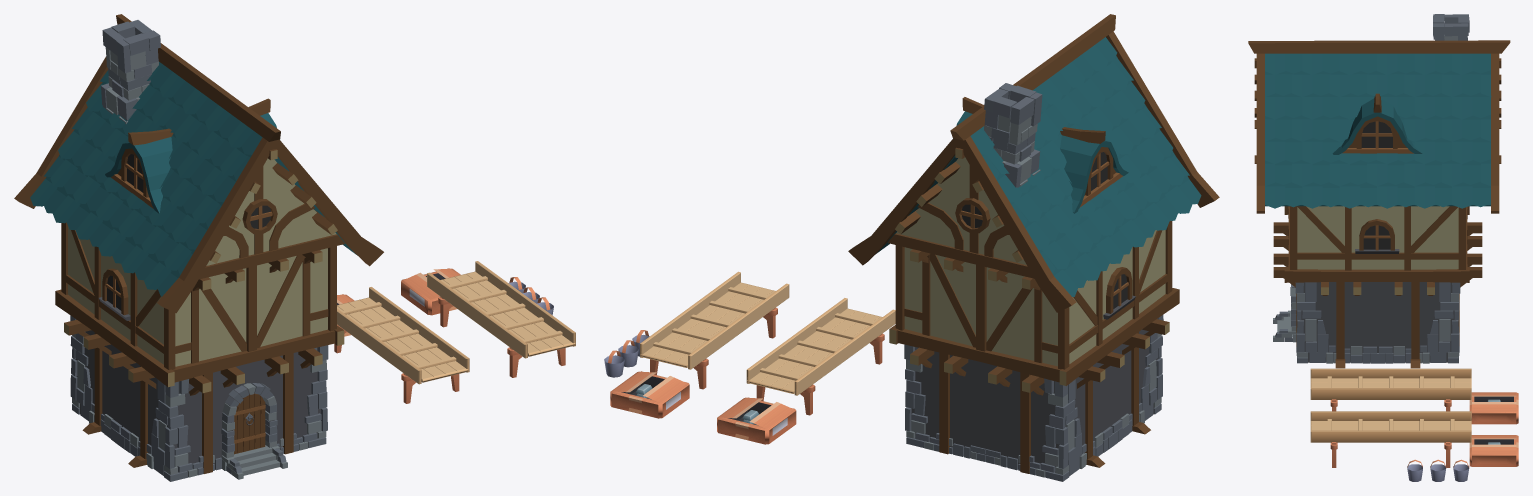
File: london_workshop_tin.glb
3 renders of one model, left to right at view 1: azimuth 30°, elevation 25°; view 2: azimuth 150°, elevation 25°; view 3: azimuth 270°, elevation 25°, orthographic. The views are drawn at different scales.
Parts seen in each view (by area): view 1: House_1, Wood_Plank_A (×10), box-open; view 2: House_1, Wood_Plank_A (×10), box-open (×2); view 3: House_1, Wood_Plank_A (×8), box-open (×2).
Part boxes in pixels (x1=…): House_1: x1=14, y1=14, x2=383, y2=481; Wood_Plank_A (×10): x1=337, y1=261, x2=575, y2=384; box-open: x1=401, y1=268, x2=460, y2=315; House_1: x1=848, y1=14, x2=1219, y2=481; Wood_Plank_A (×10): x1=640, y1=271, x2=895, y2=395; box-open (×2): x1=610, y1=371, x2=796, y2=444; House_1: x1=1248, y1=14, x2=1510, y2=368; Wood_Plank_A (×8): x1=1310, y1=368, x2=1471, y2=442; box-open (×2): x1=1469, y1=392, x2=1518, y2=466.
Size of the model in its own units: 21.08 by 15.26 by 12.35.
14 materials, 5 textured.
